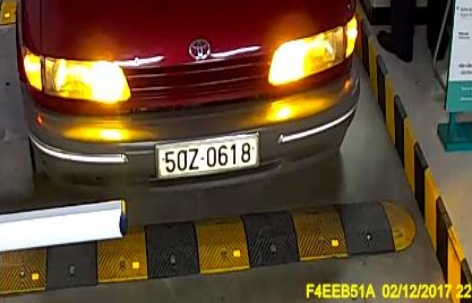plate: (156, 135, 262, 174)
